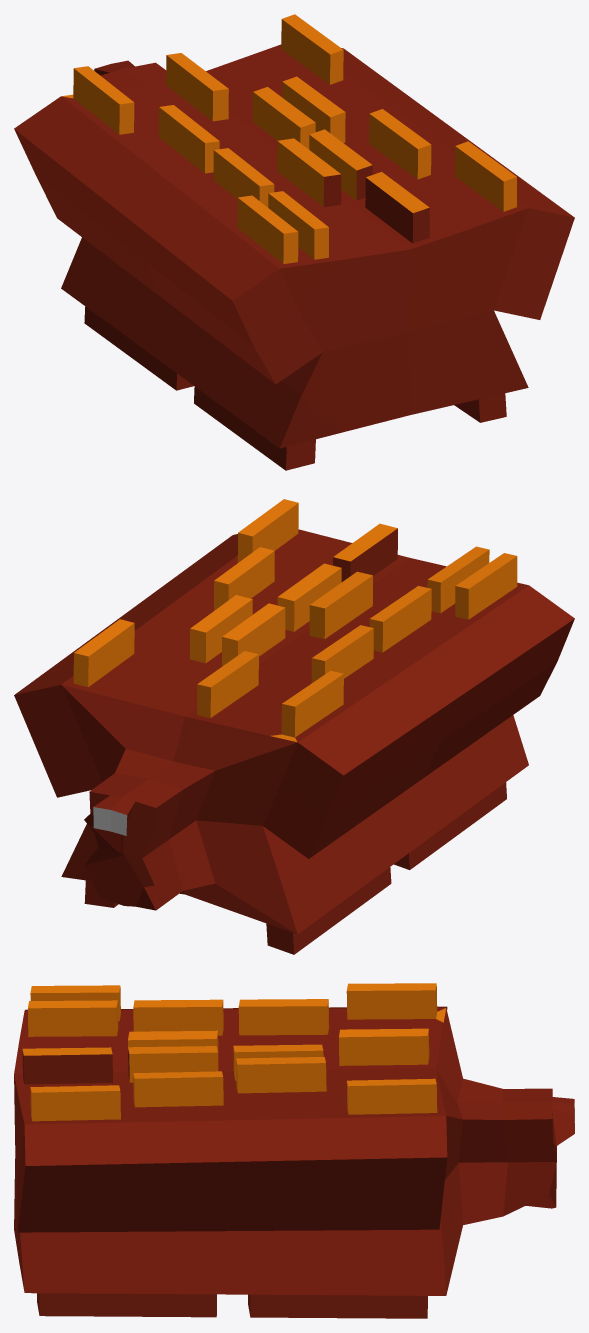
File: monster1.glb
3 views of the same model, one above another, from view 1: azimuth 30°, elevation 25°; view 2: azimuth 150°, elevation 25°; view 3: azimuth 270°, elevation 25° (orthographic). The views are drawn at different scales.
Parts seen in each view (by area): view 1: Cube; view 2: Cube; view 3: Cube.
Part boxes in pixels (x1=…): Cube: x1=14, y1=14, x2=574, y2=470; Cube: x1=14, y1=499, x2=574, y2=954; Cube: x1=14, y1=983, x2=574, y2=1318.
Size of the model in its own units: 7.54 by 5.33 by 11.42.
1 material, 1 textured.
